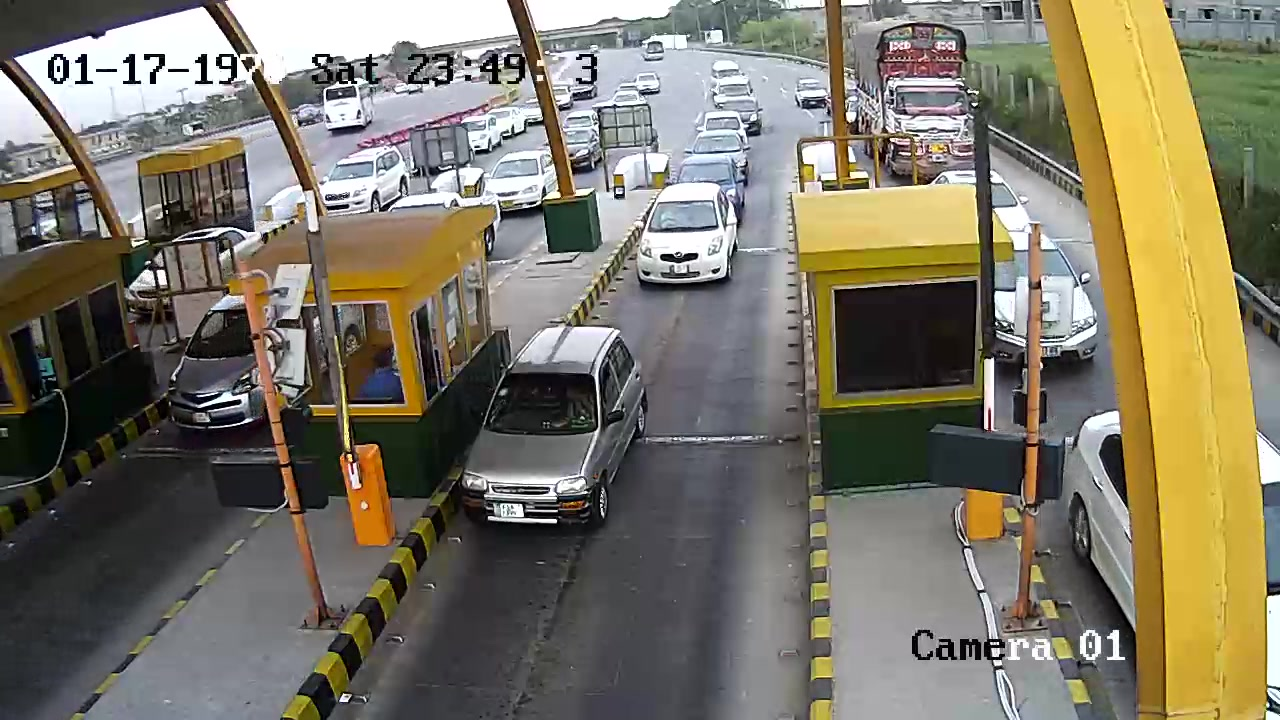F1: (455, 318, 652, 531), (628, 179, 749, 295)
